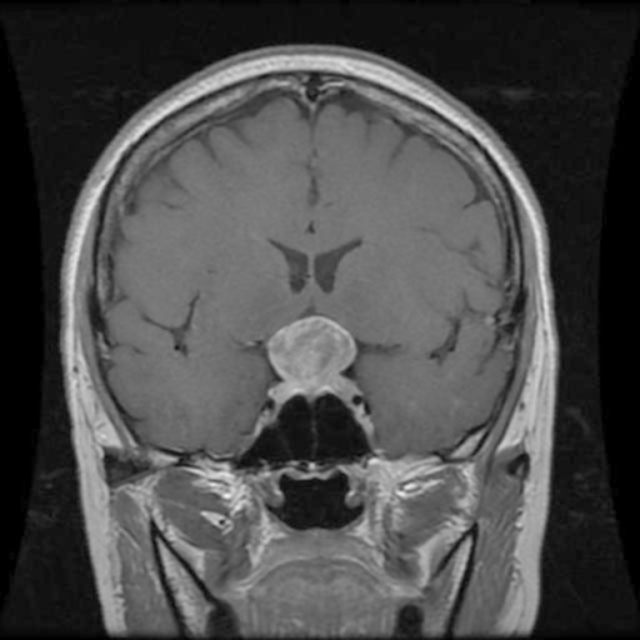no tumor: (261, 318, 375, 380)
